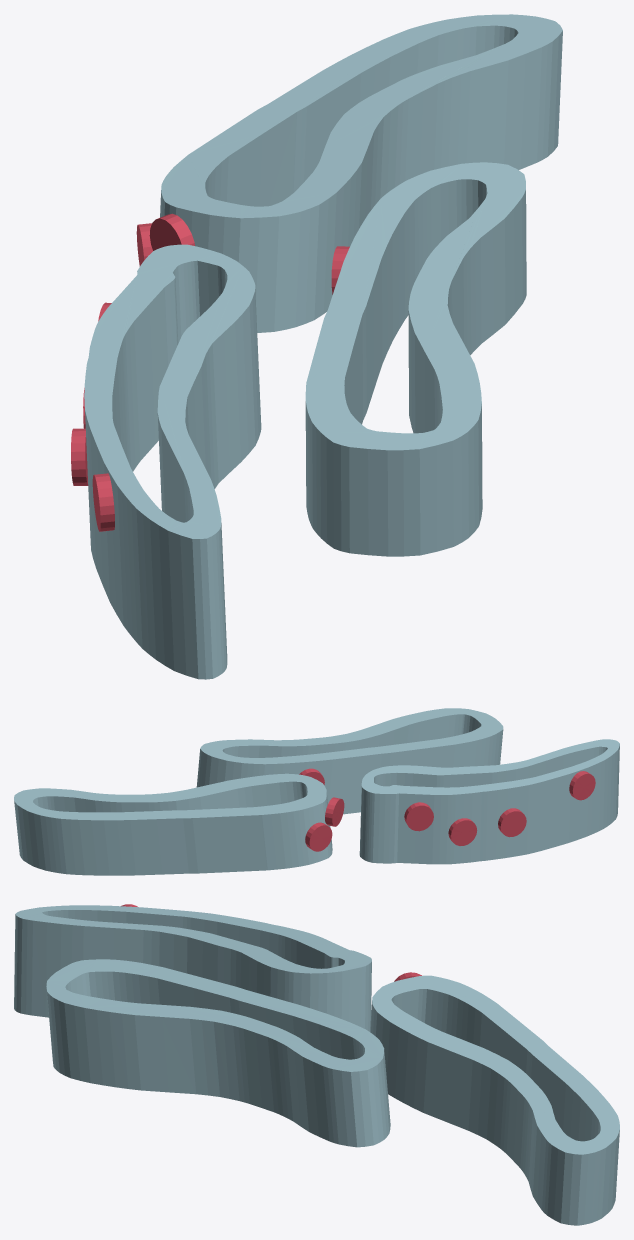
Rendered from RER.glb.
3 views of the same model, one above another, from view 1: azimuth 30°, elevation 25°; view 2: azimuth 150°, elevation 25°; view 3: azimuth 270°, elevation 25° (orthographic). The views are drawn at different scales.
Visible parts, largest first — view 1: Mesh_Mesh_head_geo.001_lambert2SG.001; view 2: Mesh_Mesh_head_geo.001_lambert2SG.001; view 3: Mesh_Mesh_head_geo.001_lambert2SG.001.
Boxes of the visible parts, box(x1,y1,x2,y2) form: Mesh_Mesh_head_geo.001_lambert2SG.001: box(71, 14, 562, 679); Mesh_Mesh_head_geo.001_lambert2SG.001: box(14, 708, 619, 875); Mesh_Mesh_head_geo.001_lambert2SG.001: box(14, 904, 619, 1225).
Size of the model in its own units: 32.33 by 7 by 31.7.
